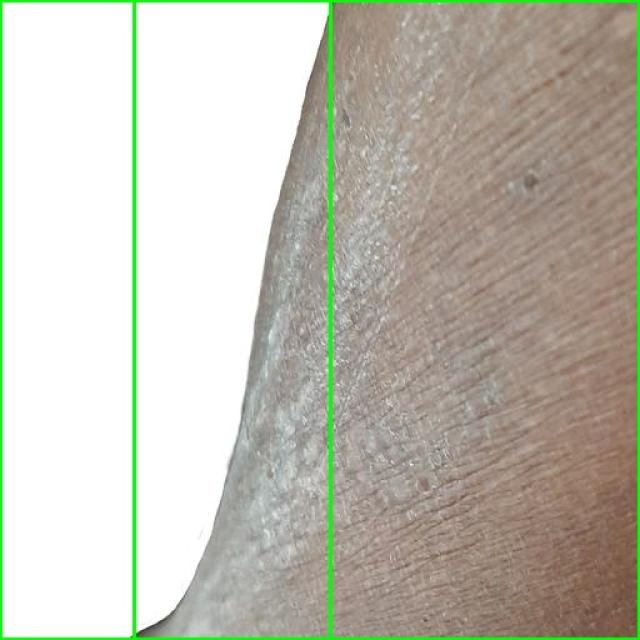Eczema: (134, 0, 639, 639), (0, 0, 330, 639)
